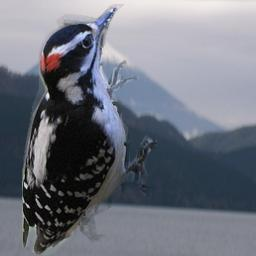Woodpecker: (22, 4, 157, 255)
